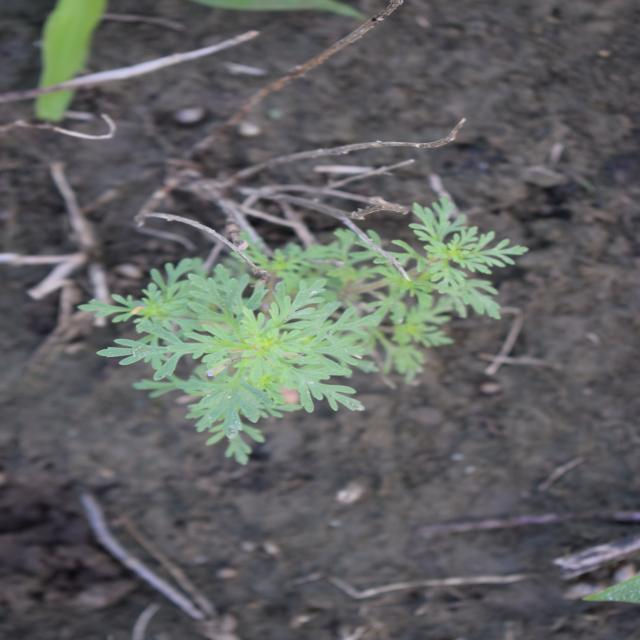Ragweed: (74, 194, 533, 468)
